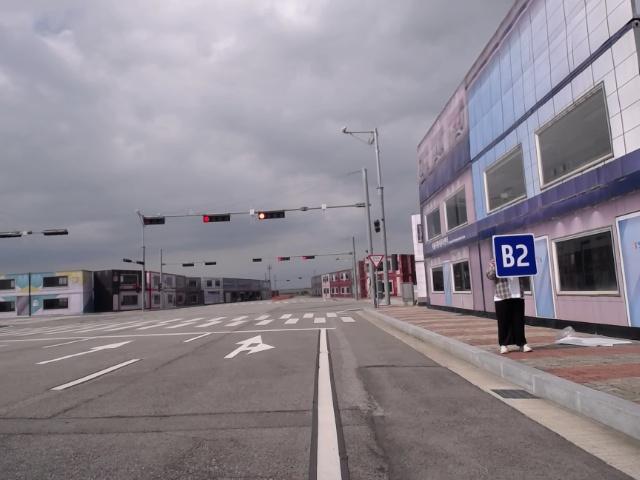delivery_b2: (491, 233, 541, 279)
red_4: (200, 213, 233, 224), (255, 210, 287, 221), (301, 255, 318, 261), (277, 256, 293, 262)
